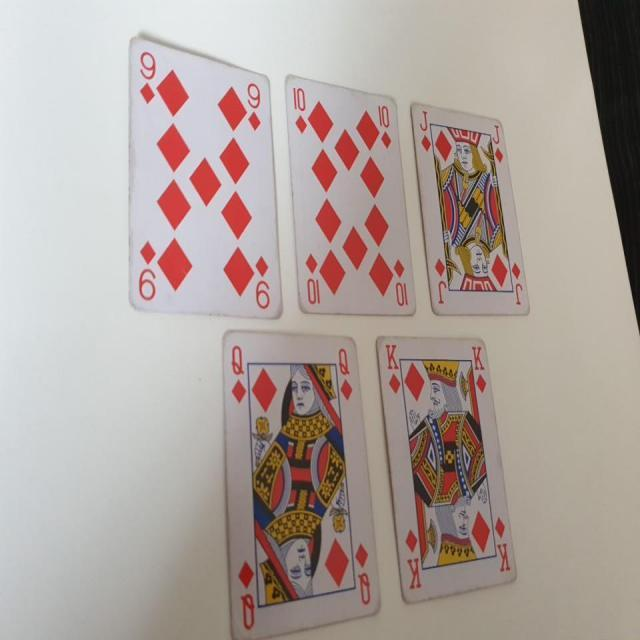10 of diamonds: (285, 69, 420, 319)
9 of diamonds: (125, 35, 284, 322)
jack of diamonds: (408, 98, 532, 318)
king of diamonds: (374, 330, 519, 604)
queen of diamonds: (220, 327, 386, 640)
